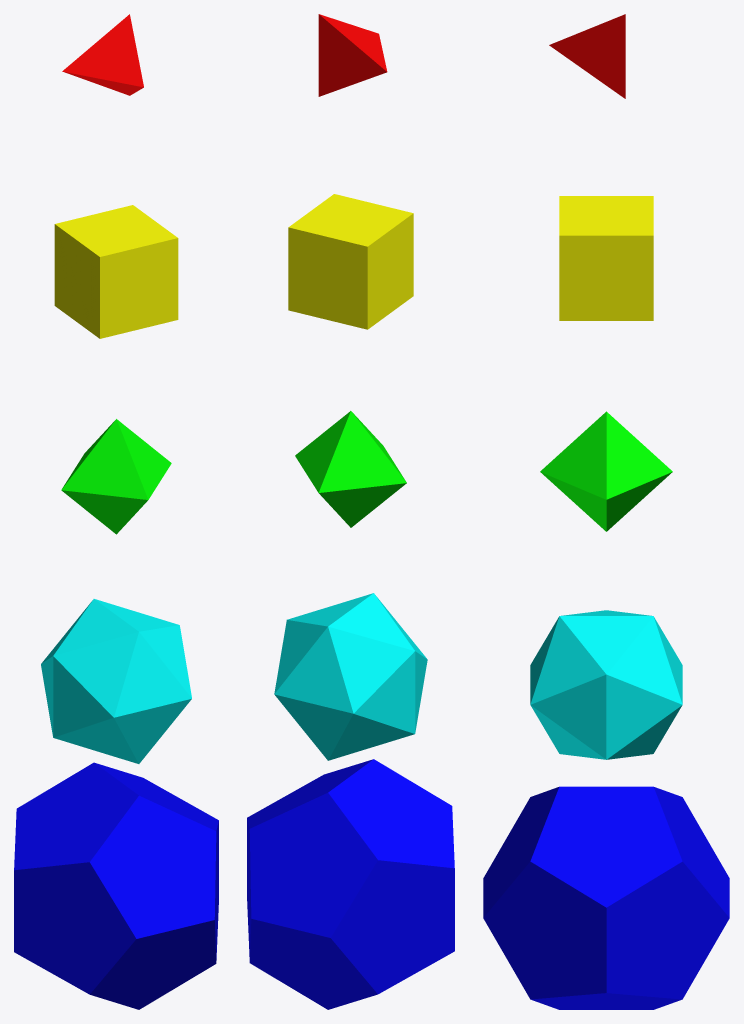
Rendered from platonic.glb.
The picture shows the model from 3 angles, left to right: view 1: azimuth 30°, elevation 25°; view 2: azimuth 150°, elevation 25°; view 3: azimuth 270°, elevation 25°; orthographic projection. The views are drawn at different scales.
Parts seen in each view (by area): view 1: =>[0:1:1:6], =>[0:1:1:5], =>[0:1:1:3], =>[0:1:1:4], =>[0:1:1:2]; view 2: =>[0:1:1:6], =>[0:1:1:5], =>[0:1:1:3], =>[0:1:1:4], =>[0:1:1:2]; view 3: =>[0:1:1:6], =>[0:1:1:5], =>[0:1:1:3], =>[0:1:1:4], =>[0:1:1:2].
Part boxes in pixels (x1,y1,x2,y2): =>[0:1:1:6]: [14, 762, 218, 1009]; =>[0:1:1:5]: [41, 599, 191, 763]; =>[0:1:1:3]: [54, 205, 178, 338]; =>[0:1:1:4]: [61, 419, 171, 534]; =>[0:1:1:2]: [62, 14, 143, 95]; =>[0:1:1:6]: [247, 759, 454, 1009]; =>[0:1:1:5]: [274, 593, 427, 760]; =>[0:1:1:3]: [288, 194, 413, 329]; =>[0:1:1:4]: [295, 411, 406, 527]; =>[0:1:1:2]: [318, 14, 387, 96]; =>[0:1:1:6]: [483, 786, 729, 1009]; =>[0:1:1:5]: [530, 610, 682, 759]; =>[0:1:1:3]: [559, 196, 653, 320]; =>[0:1:1:4]: [540, 411, 672, 531]; =>[0:1:1:2]: [549, 14, 625, 98].
Bounding box in the file's own units: 2.62 × 11.81 × 2.62.
